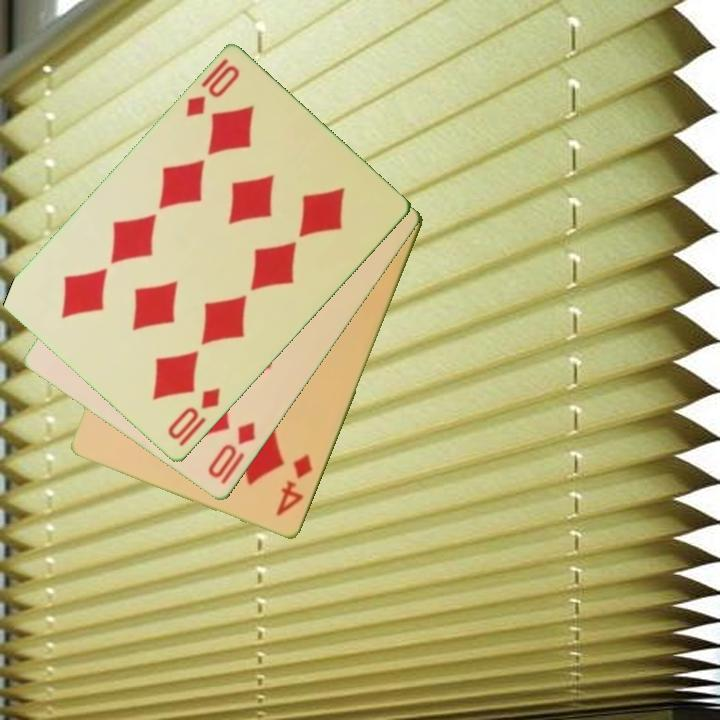10d: (182, 55, 243, 121), (164, 384, 224, 451), (204, 418, 259, 482)
4d: (273, 451, 316, 520)
